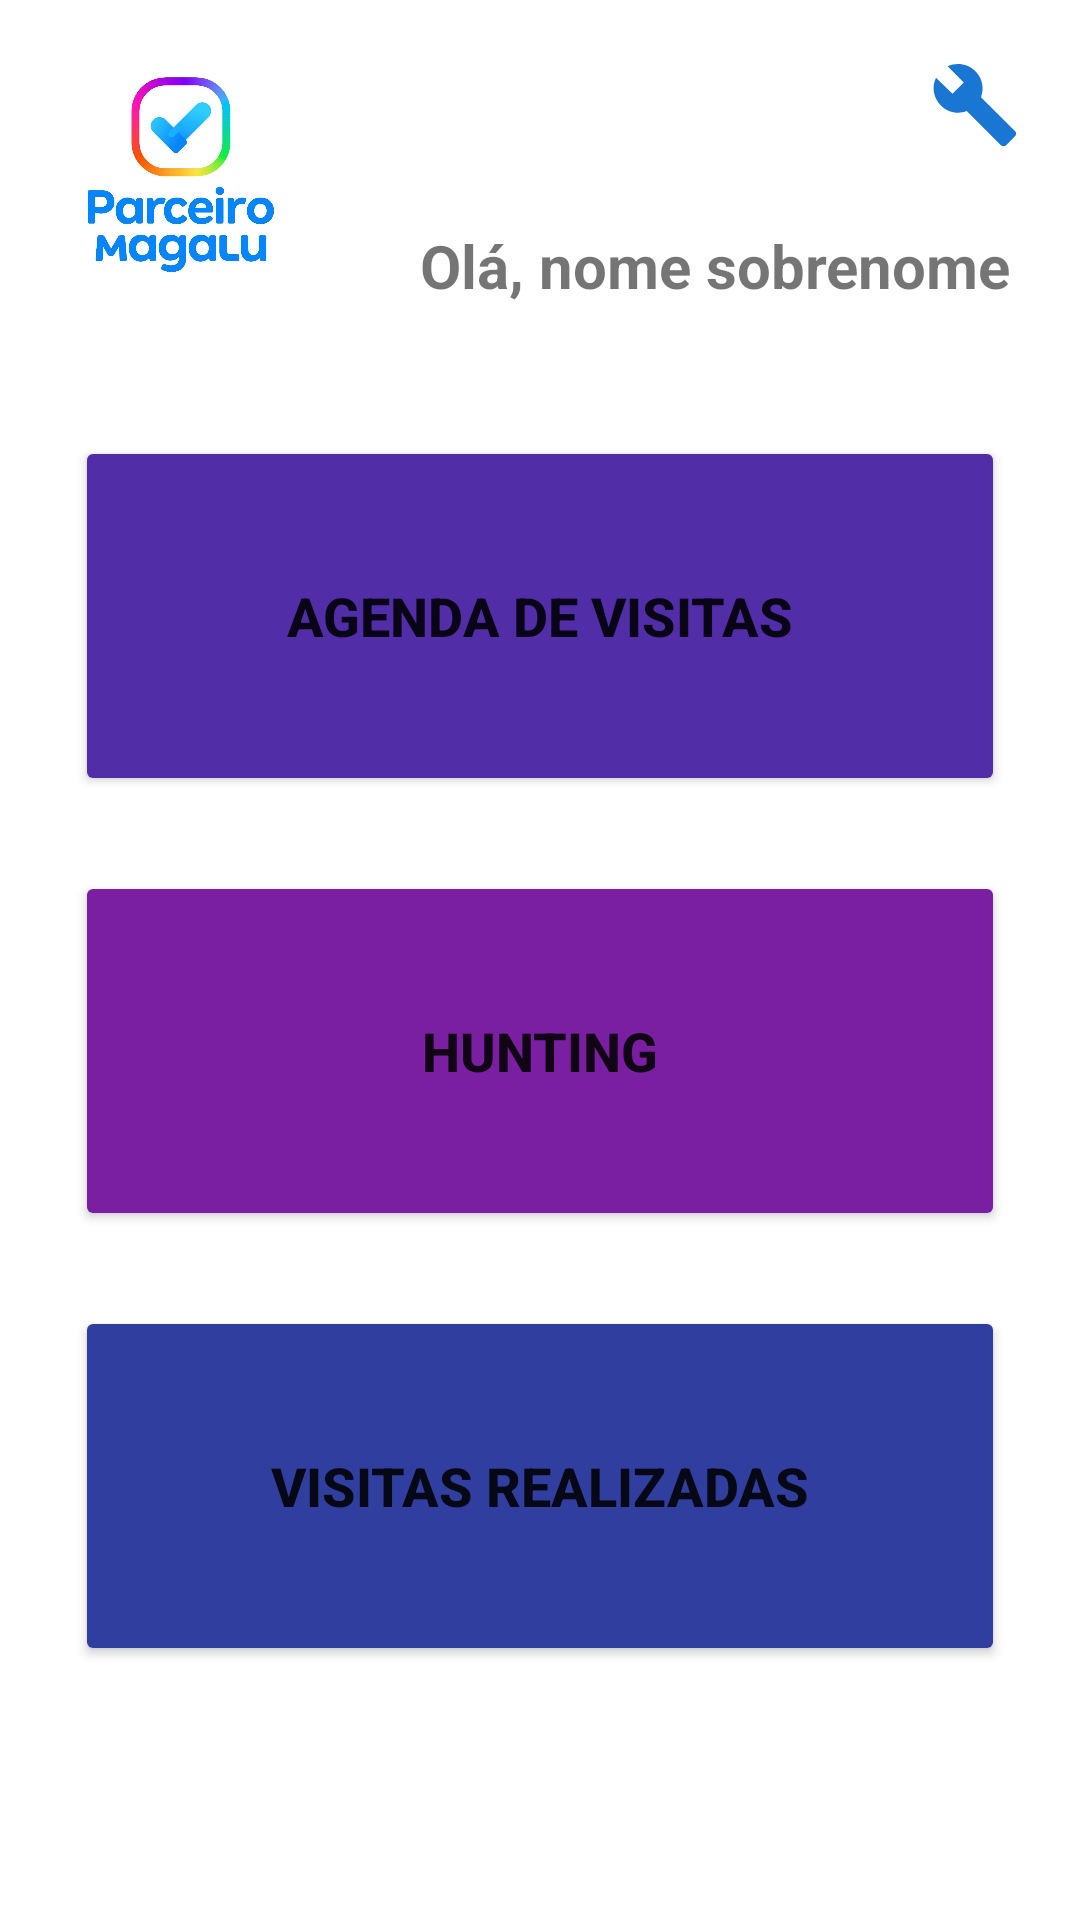

Point at icon controls on the screen. Image size 1080px×1920px, points as (x,y).
Icone de configuracao: (975,105)
